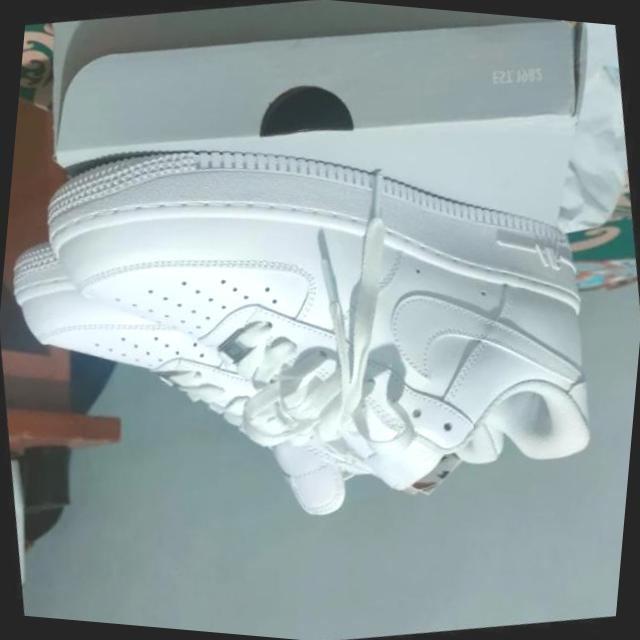nike_original_airforce: (8, 66, 638, 566), (0, 147, 610, 588)
